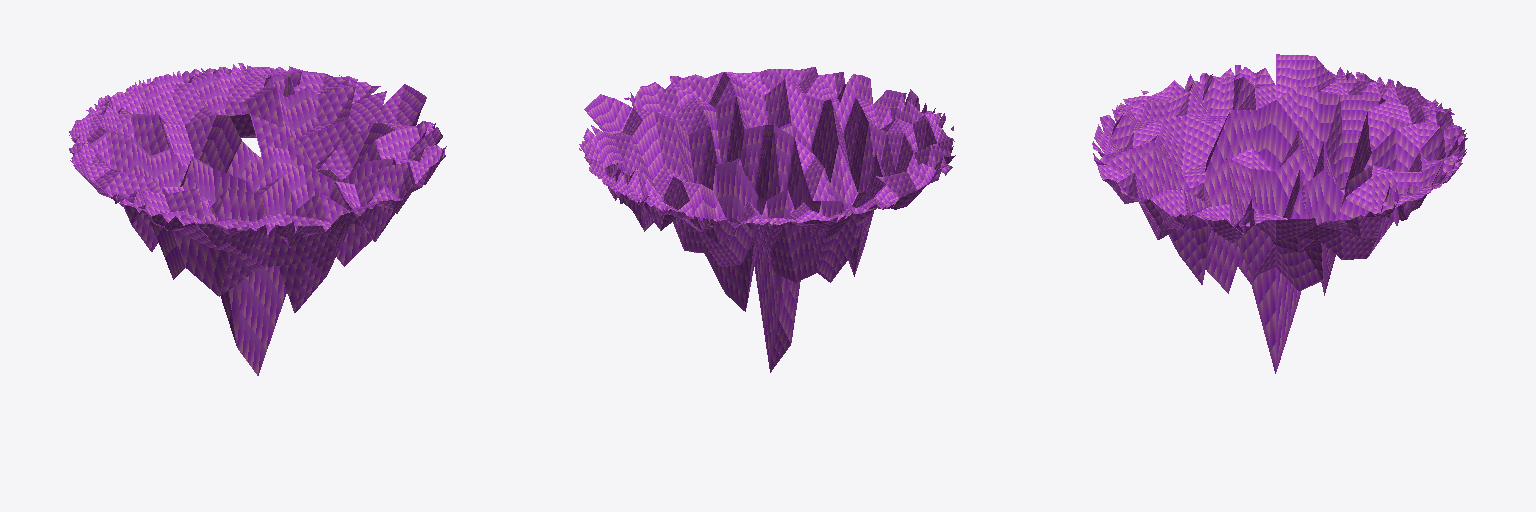
3 renders of one model, left to right at view 1: azimuth 30°, elevation 25°; view 2: azimuth 150°, elevation 25°; view 3: azimuth 270°, elevation 25°, orthographic.
Visible parts, largest first — view 1: groundfinal.002; view 2: groundfinal.002; view 3: groundfinal.002.
Part boxes in pixels (bbox=[...]): groundfinal.002: bbox=[69, 63, 446, 375]; groundfinal.002: bbox=[579, 67, 955, 372]; groundfinal.002: bbox=[1092, 54, 1467, 373].
Size of the model in its own units: 484 by 325 by 464.
Materials: 1 (1 with a texture image).